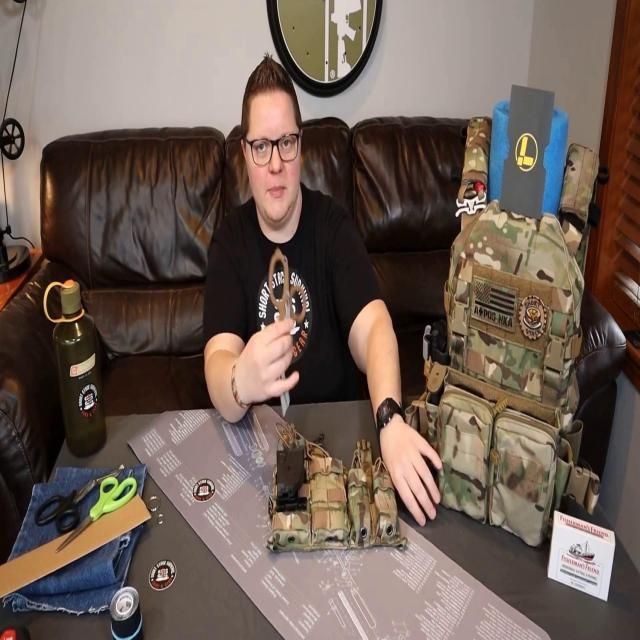scissor: (55, 477, 137, 553), (270, 246, 306, 416), (35, 470, 120, 534)
